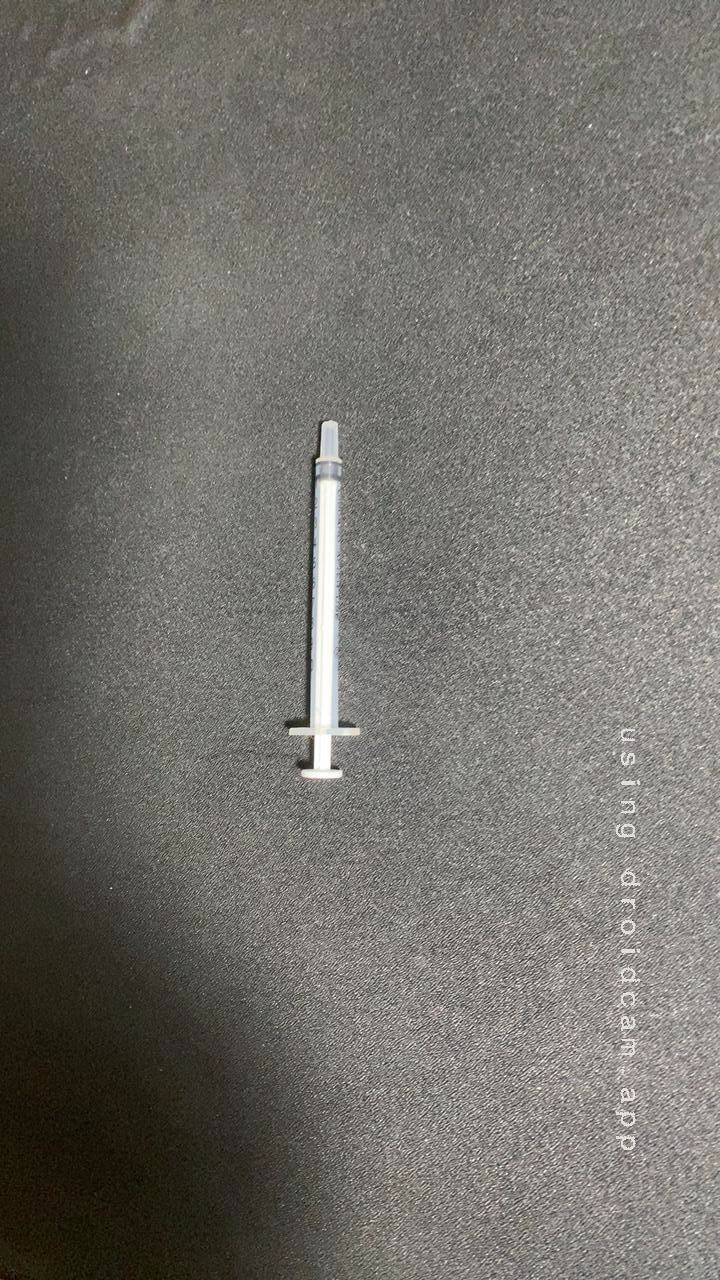syringe: (243, 387, 404, 787)
